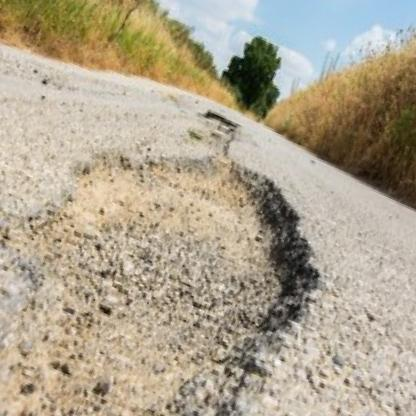pothole: (0, 100, 353, 416), (200, 108, 239, 133)
